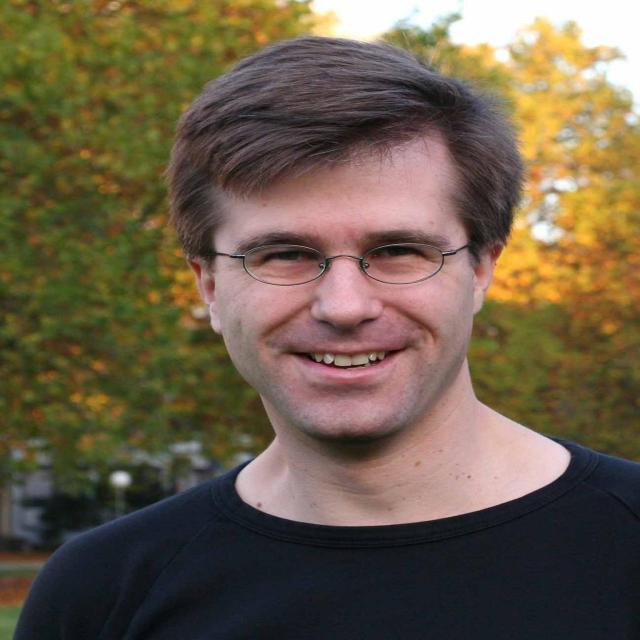Face: (180, 108, 502, 432)
